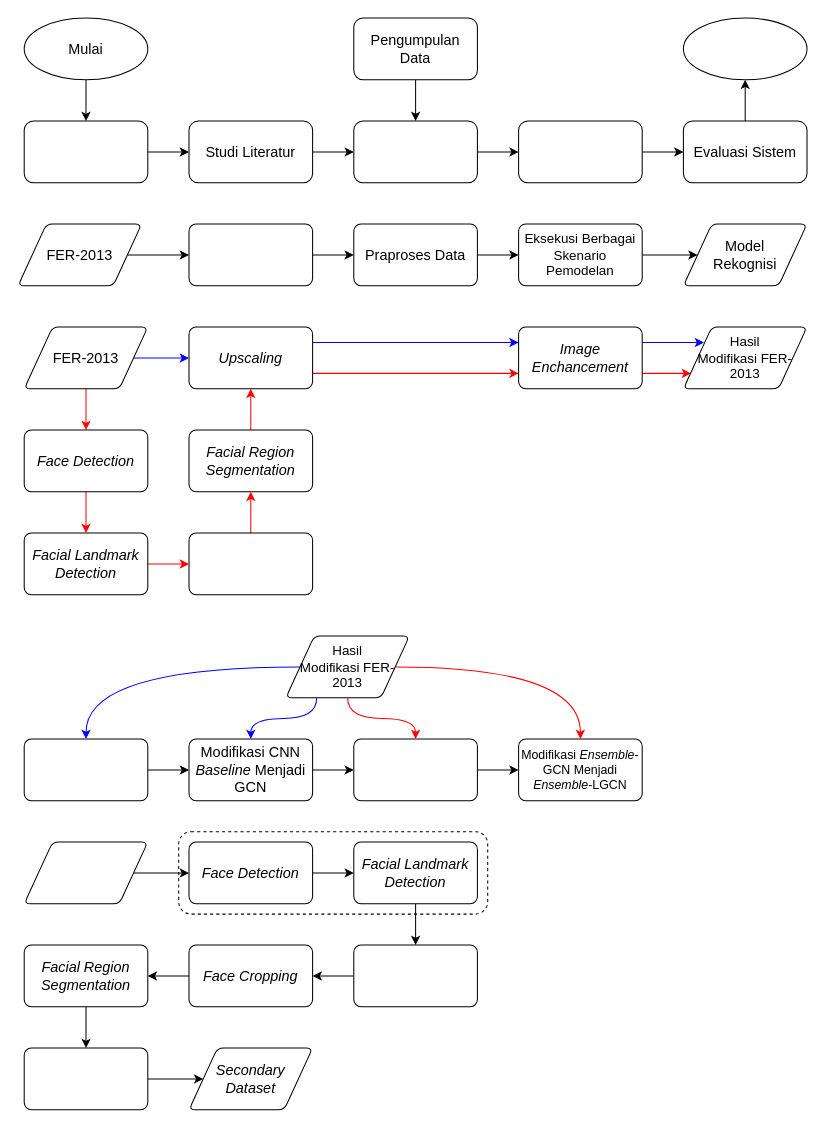
Some shapes in this 825 by 1128 pixel diagram are drawn without their labels. Each missing label, with the centre of its shape:
"Data Cleansing" goes at (250,254).
"Face Alignment" goes at (415,975).
"Image Alignment" goes at (250,563).
"Image Upscaling" goes at (85,1078).
"Implementasi CNN Baseline" goes at (85,769).
"Modifikasi GCN Menjadi Ensemble -GCN" goes at (415,769).
"Pengembangan Metode" goes at (580,151).
"Perancangan Metode" goes at (415,151).
"Perumusan Masalah" goes at (85,151).
"Primary Dataset" goes at (85,872).
"Selesai" goes at (744,48).
